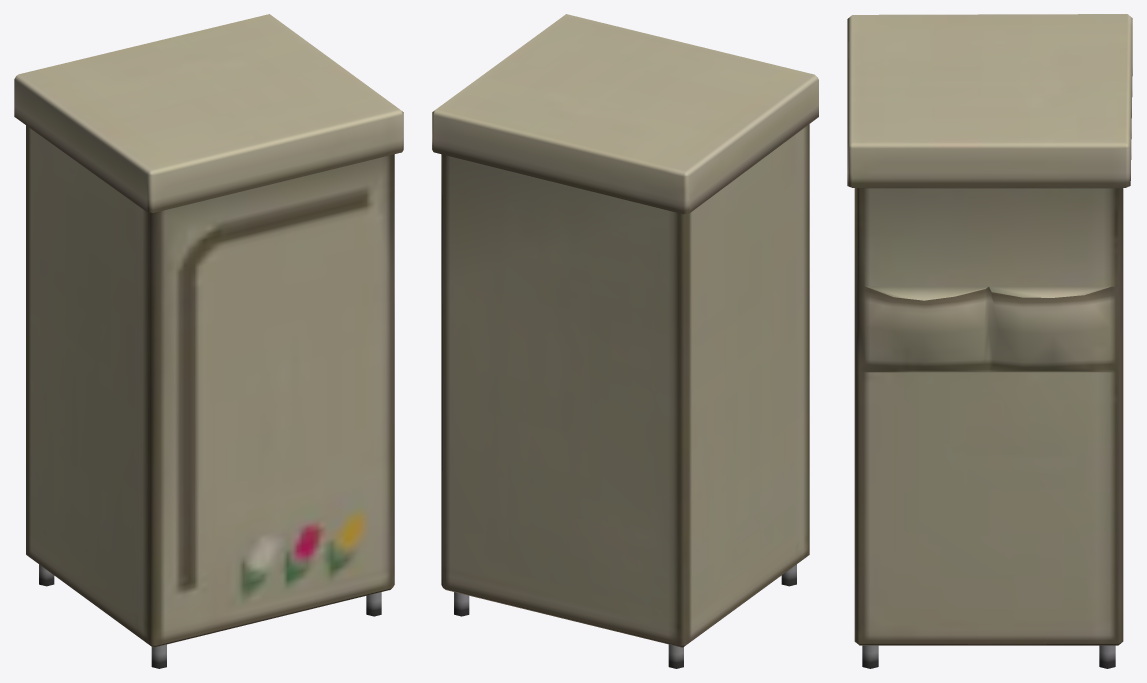
3 renders of one model, left to right at view 1: azimuth 30°, elevation 25°; view 2: azimuth 150°, elevation 25°; view 3: azimuth 270°, elevation 25°, orthographic. The views are drawn at different scales.
Size of the model in its own units: 8.85 by 15.91 by 7.75.
1 material, 1 textured.
